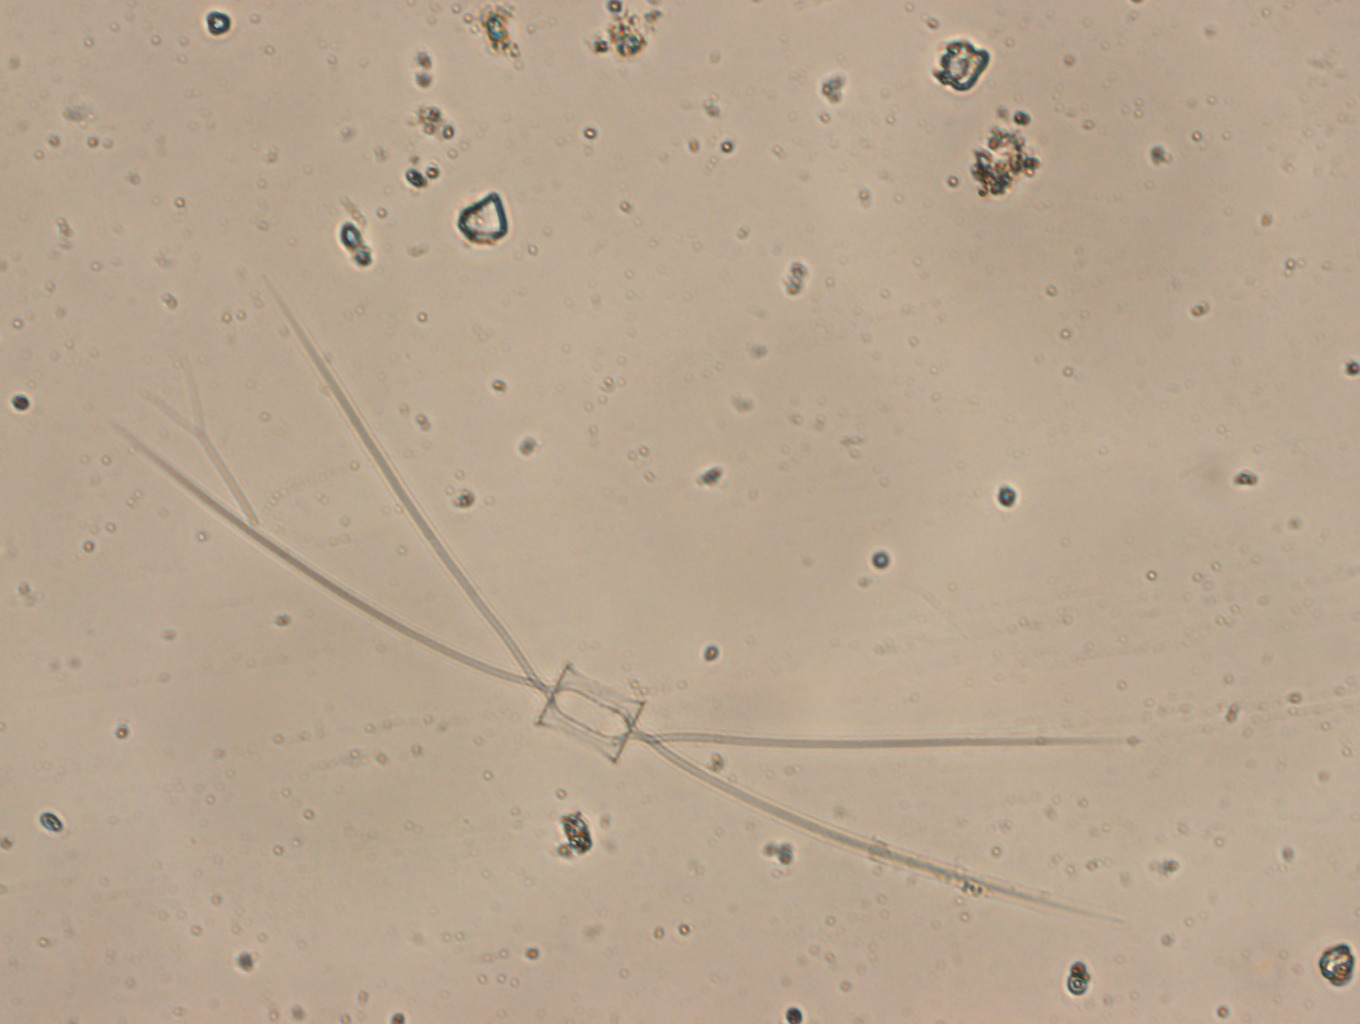chaetoceros: (105, 280, 1139, 924)
